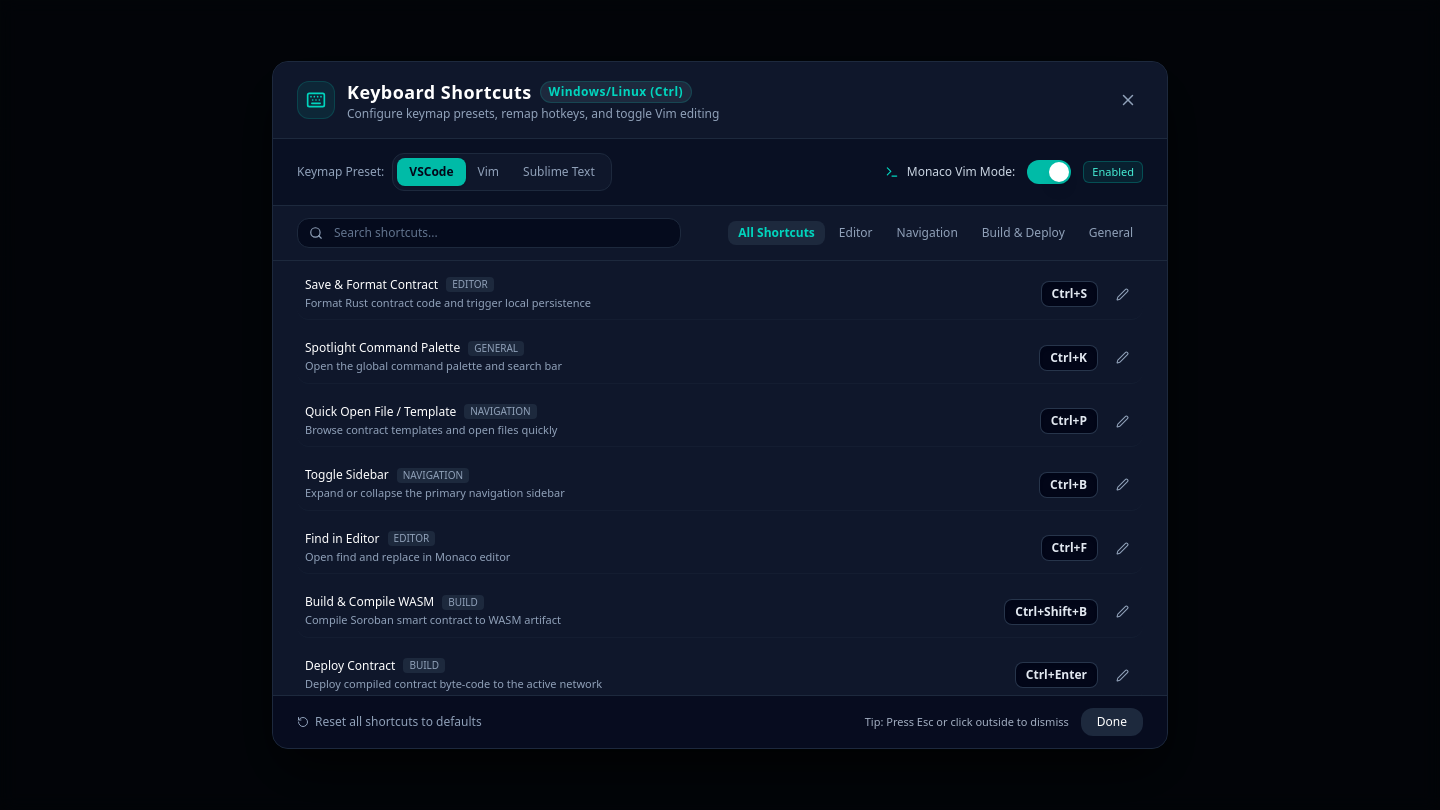
Test: KeyboardShortcutsModal (#2077) › displays conflict warning when remapping to an already used hotkey
This screenshot has width=1440, height=810.
Step 1. Click the button named "Remap Save & Format Contract" → click(1122, 294), box [1110, 282, 1135, 306]
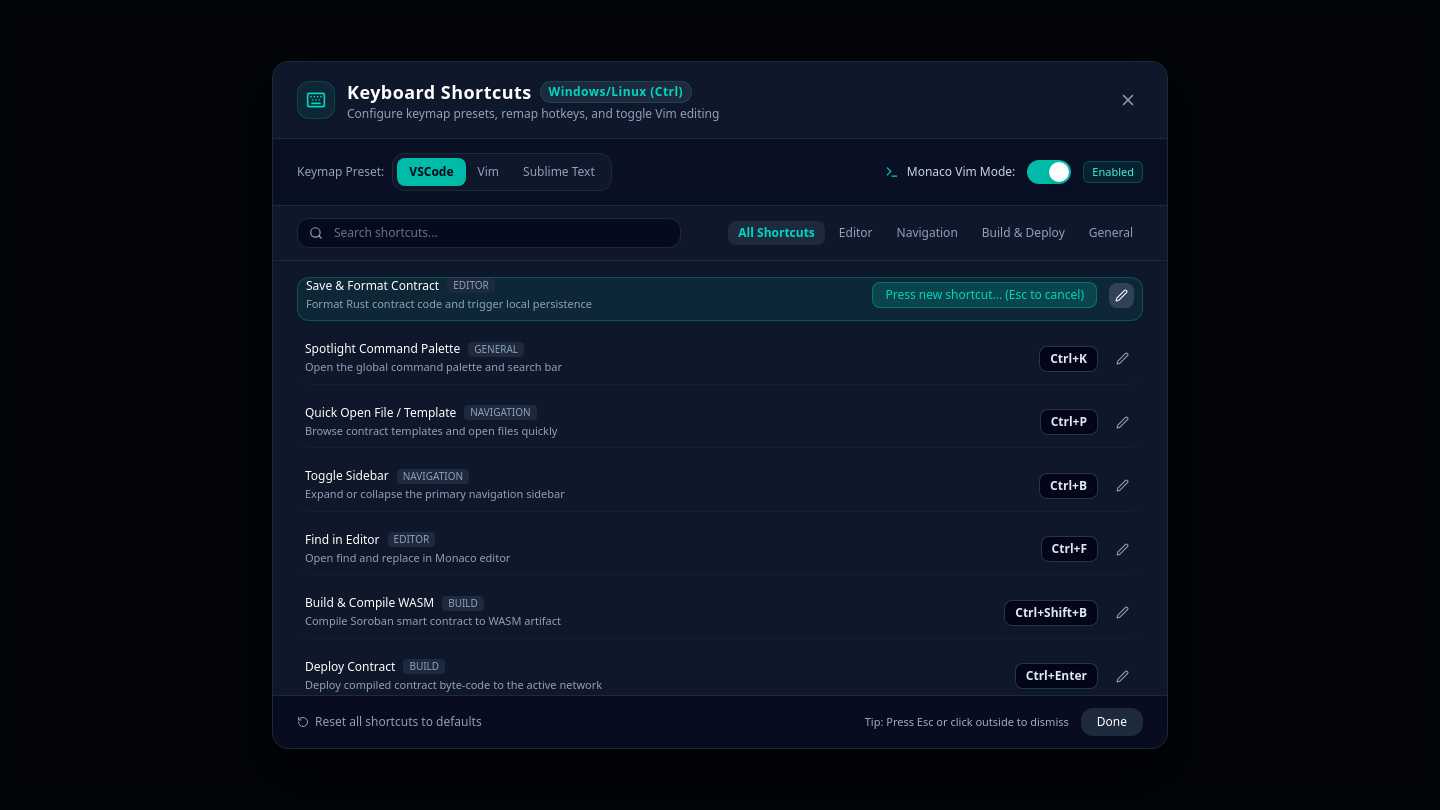
// Ctrl+K is already used by Spotlight Command Palette
Step 2. Press k
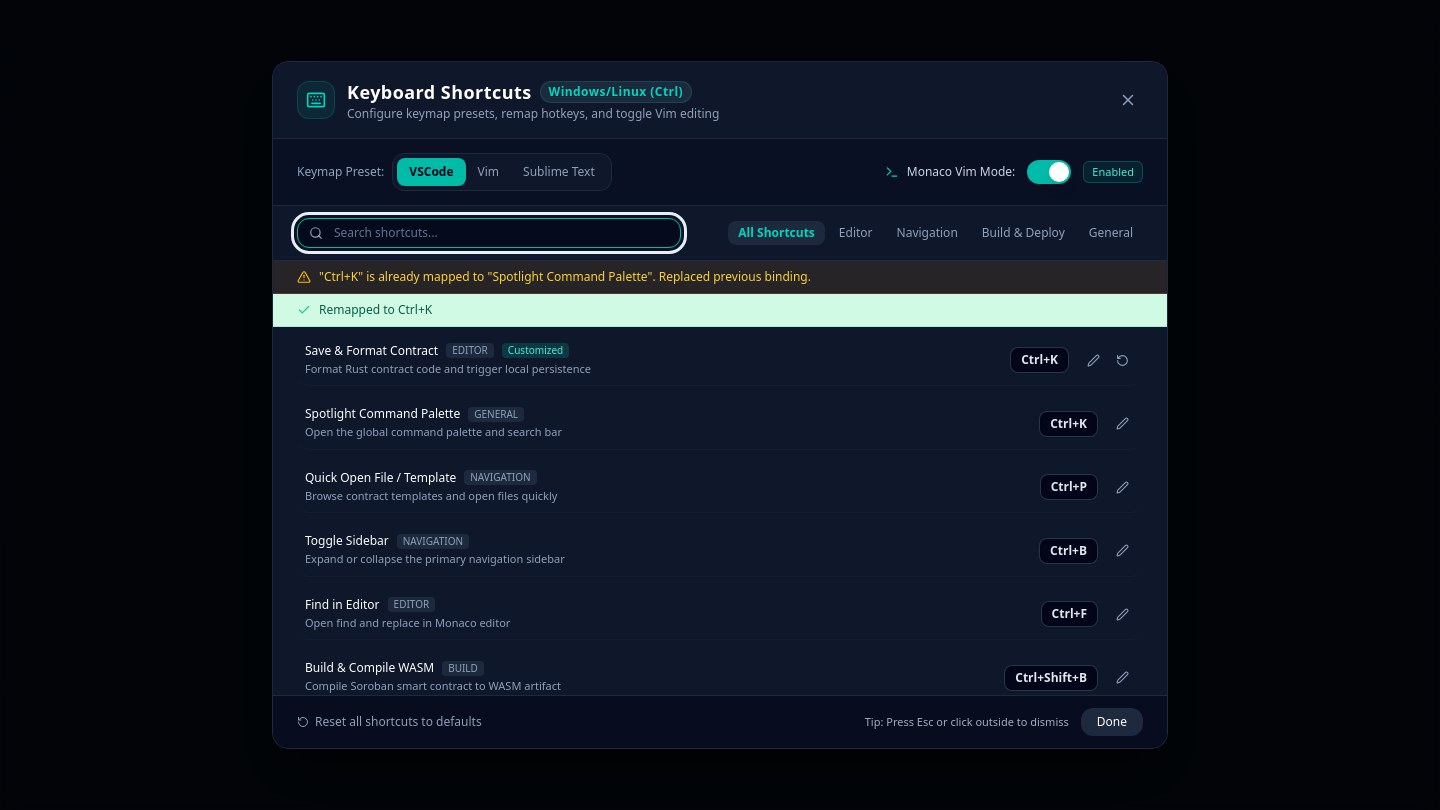
Check: the 1st message shows "already mapped to", box [319, 268, 811, 285]
